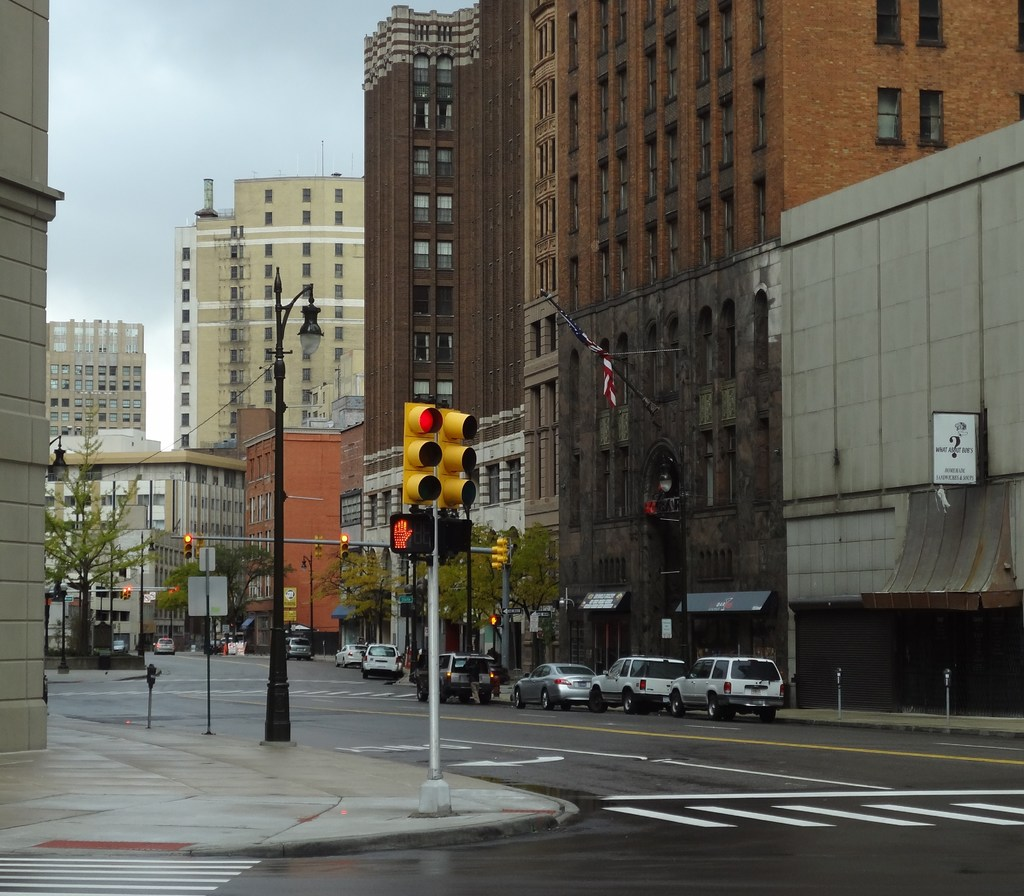red_light: (404, 402, 446, 507), (182, 532, 194, 560), (339, 533, 350, 561)
